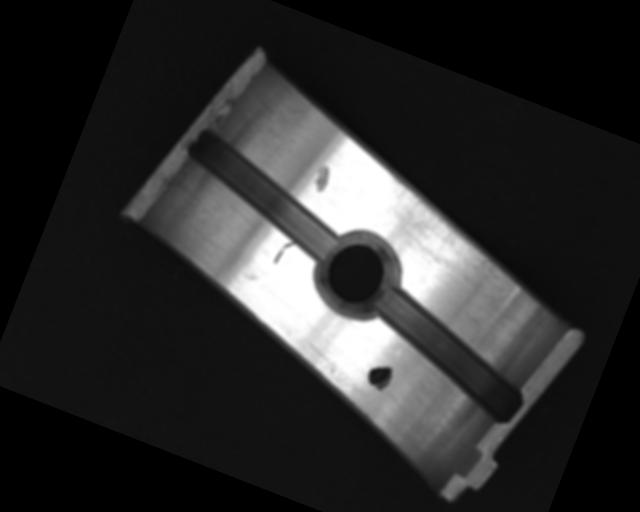blot: (362, 359, 396, 395)
bruise: (309, 161, 335, 196)
gap: (350, 284, 543, 426), (168, 125, 357, 262)
hole: (302, 218, 412, 326)
nick: (272, 237, 296, 268)
scratch: (362, 169, 524, 287)
